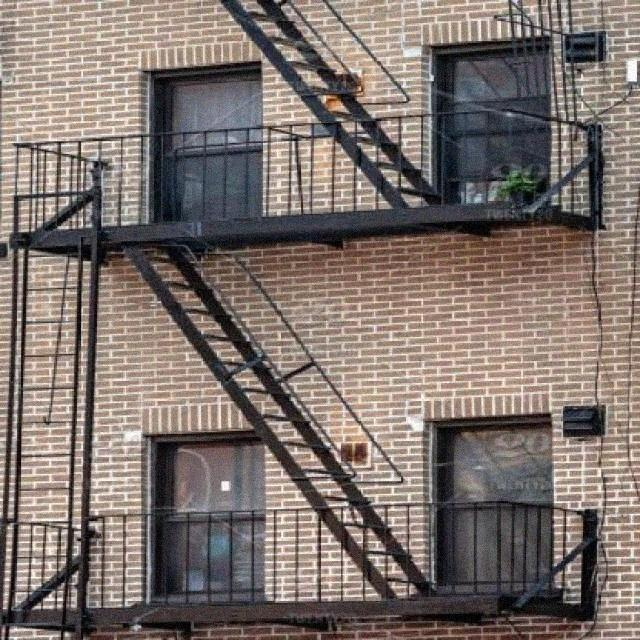stair: (41, 217, 526, 611)
